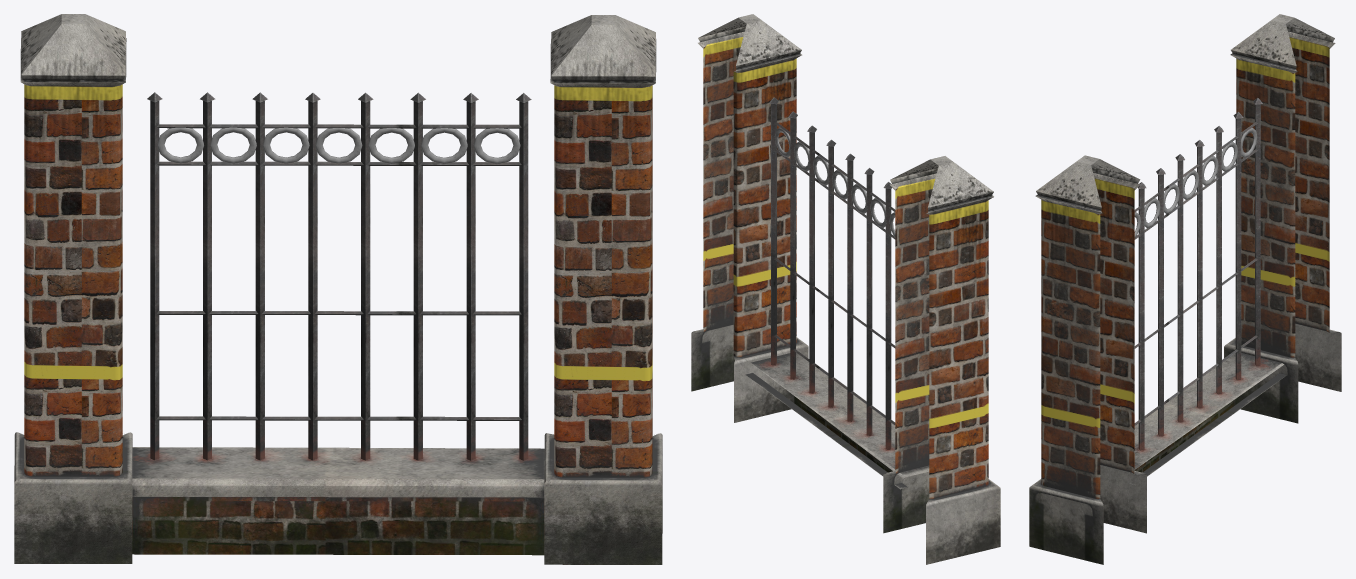
File: Complete_fence.fbx
3 views of the same model, side by side, from view 1: azimuth 30°, elevation 25°; view 2: azimuth 150°, elevation 25°; view 3: azimuth 270°, elevation 25° (orthographic). The views are drawn at different scales.
Parts seen in each view (by area): view 1: Complete_fence; view 2: Complete_fence; view 3: Complete_fence.
Part boxes in pixels (x1,y1,x2,y2): Complete_fence: (14,14,662,564); Complete_fence: (691,14,1000,564); Complete_fence: (1029,14,1341,564).
Size of the model in its own units: 986 by 914 by 682.
Materials: 1 (1 with a texture image).
